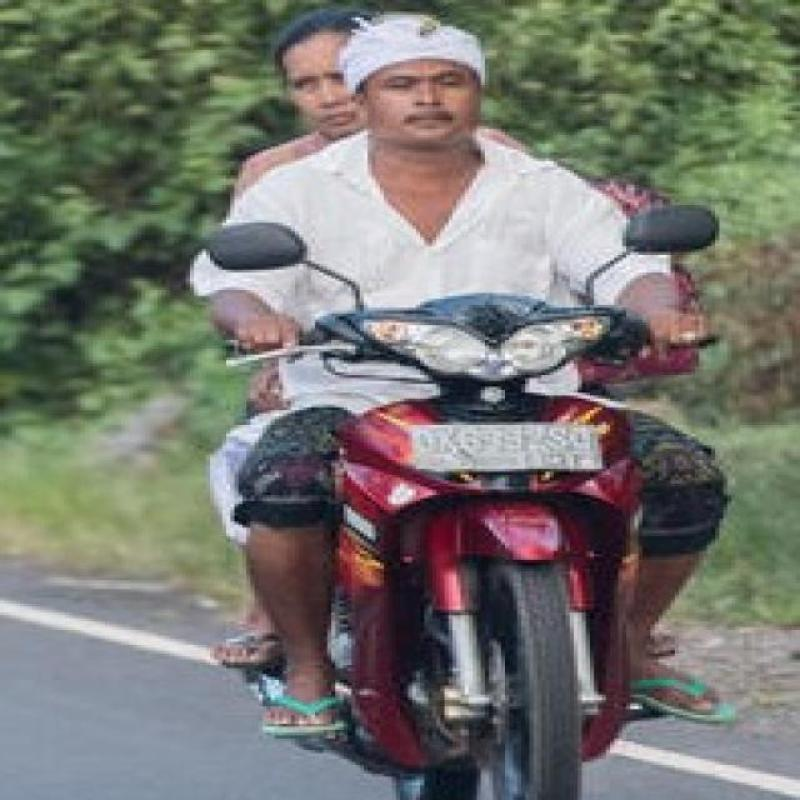nohelmet: (340, 7, 492, 145)
